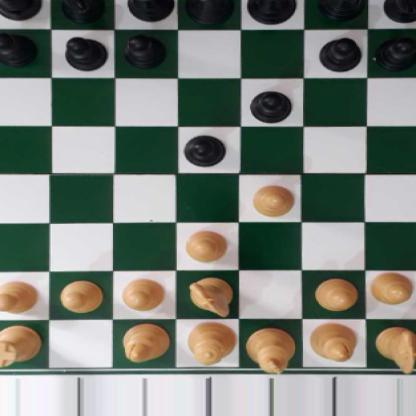black-bishop: (316, 0, 365, 21), (126, 0, 174, 21)
black-king: (249, 0, 296, 26)
black-knight: (57, 0, 105, 24), (384, 0, 416, 24)
black-pawn: (250, 87, 294, 122), (64, 35, 106, 70), (319, 36, 360, 70), (376, 35, 416, 69), (124, 34, 165, 67), (183, 134, 225, 166), (0, 32, 37, 66)
black-queen: (183, 0, 235, 23)
black-rook: (0, 0, 43, 19)
white-bishop: (310, 322, 358, 364), (122, 322, 167, 364)
white-king: (247, 325, 291, 373)
white-knight: (375, 325, 416, 374), (189, 275, 234, 316)
white-pawn: (120, 276, 165, 311), (183, 228, 229, 262), (312, 277, 356, 311), (250, 183, 294, 217), (371, 271, 413, 305), (58, 279, 102, 311), (0, 279, 40, 313)
white-queen: (183, 321, 239, 364)
white-rook: (0, 324, 43, 366)
